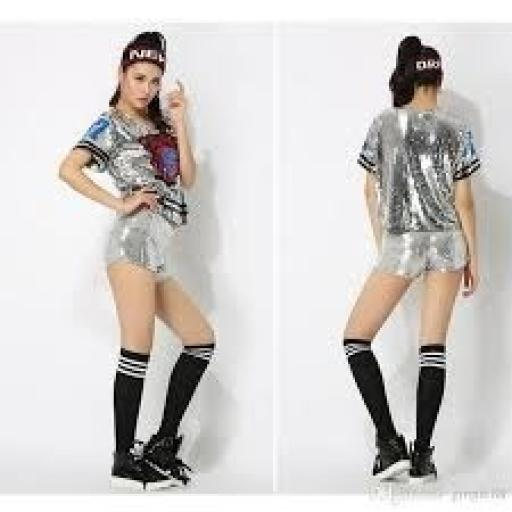dancing: (54, 27, 218, 494), (339, 32, 485, 485)
